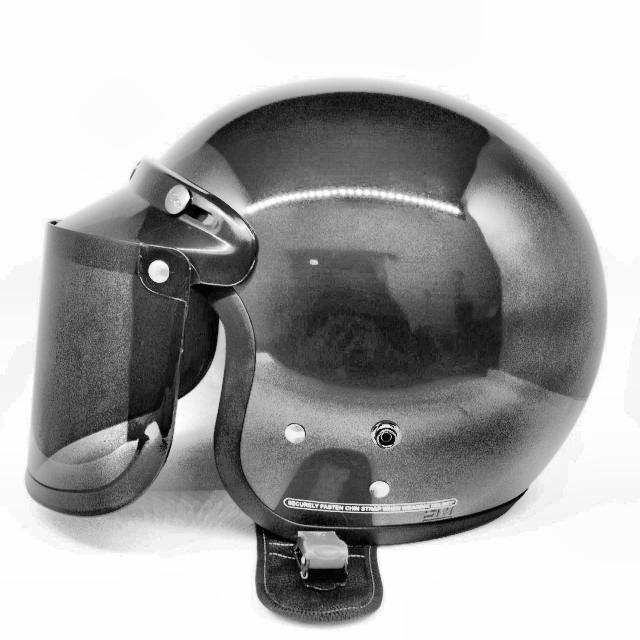Helmet: (21, 66, 639, 626)
